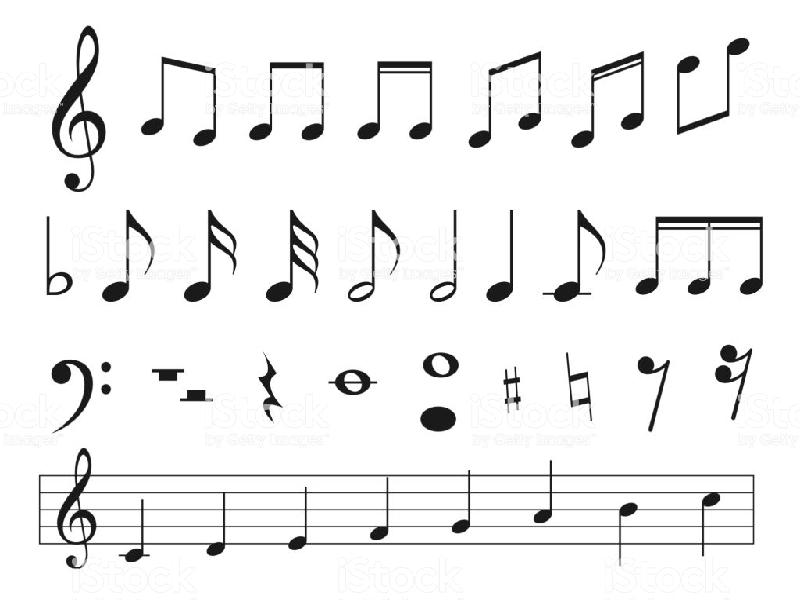B: (431, 204, 462, 308), (343, 233, 383, 304)
C: (102, 206, 159, 304), (553, 208, 611, 304), (466, 61, 514, 153), (245, 58, 292, 148), (710, 35, 753, 128), (141, 49, 183, 143), (185, 48, 224, 147), (671, 54, 711, 143), (509, 50, 549, 137), (293, 53, 331, 142)
CF: (48, 357, 116, 432)
CS: (53, 22, 112, 194), (57, 446, 97, 568)
N: (485, 207, 518, 301), (120, 498, 153, 564), (364, 477, 395, 541), (286, 481, 313, 549), (447, 469, 474, 535), (204, 489, 230, 557), (616, 494, 638, 566), (698, 485, 720, 554), (534, 461, 555, 523)
R: (333, 368, 375, 398), (424, 347, 461, 380)
SB: (180, 387, 212, 408)
SC: (181, 203, 245, 309), (619, 211, 681, 299), (685, 207, 732, 301), (569, 58, 604, 154), (733, 213, 773, 297), (617, 42, 652, 137), (357, 58, 395, 144), (403, 53, 437, 146)
SN: (253, 352, 283, 421)
SOS: (500, 367, 526, 413)
SR: (152, 365, 185, 383)
